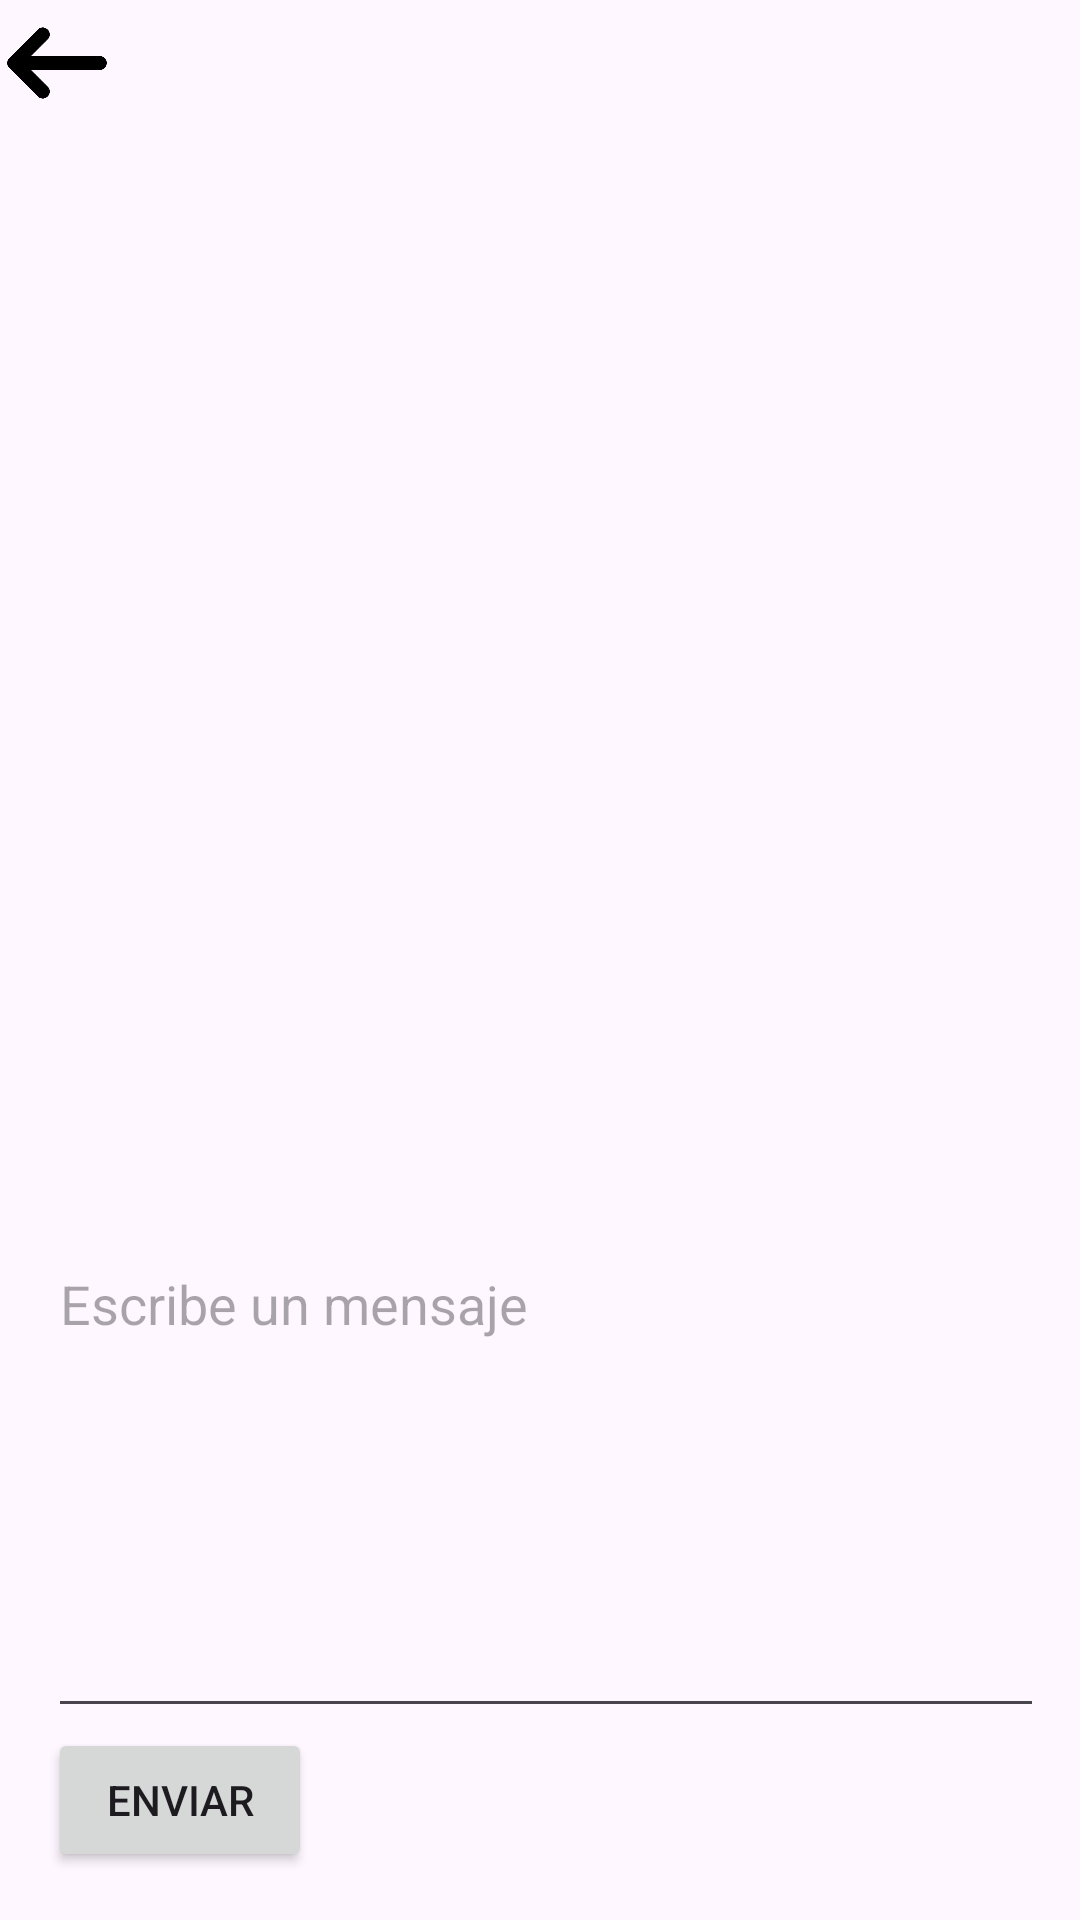

Named icons in this screenshot (1080×1920) and their centers, (x=x, y=y):
back: (x=57, y=63)
